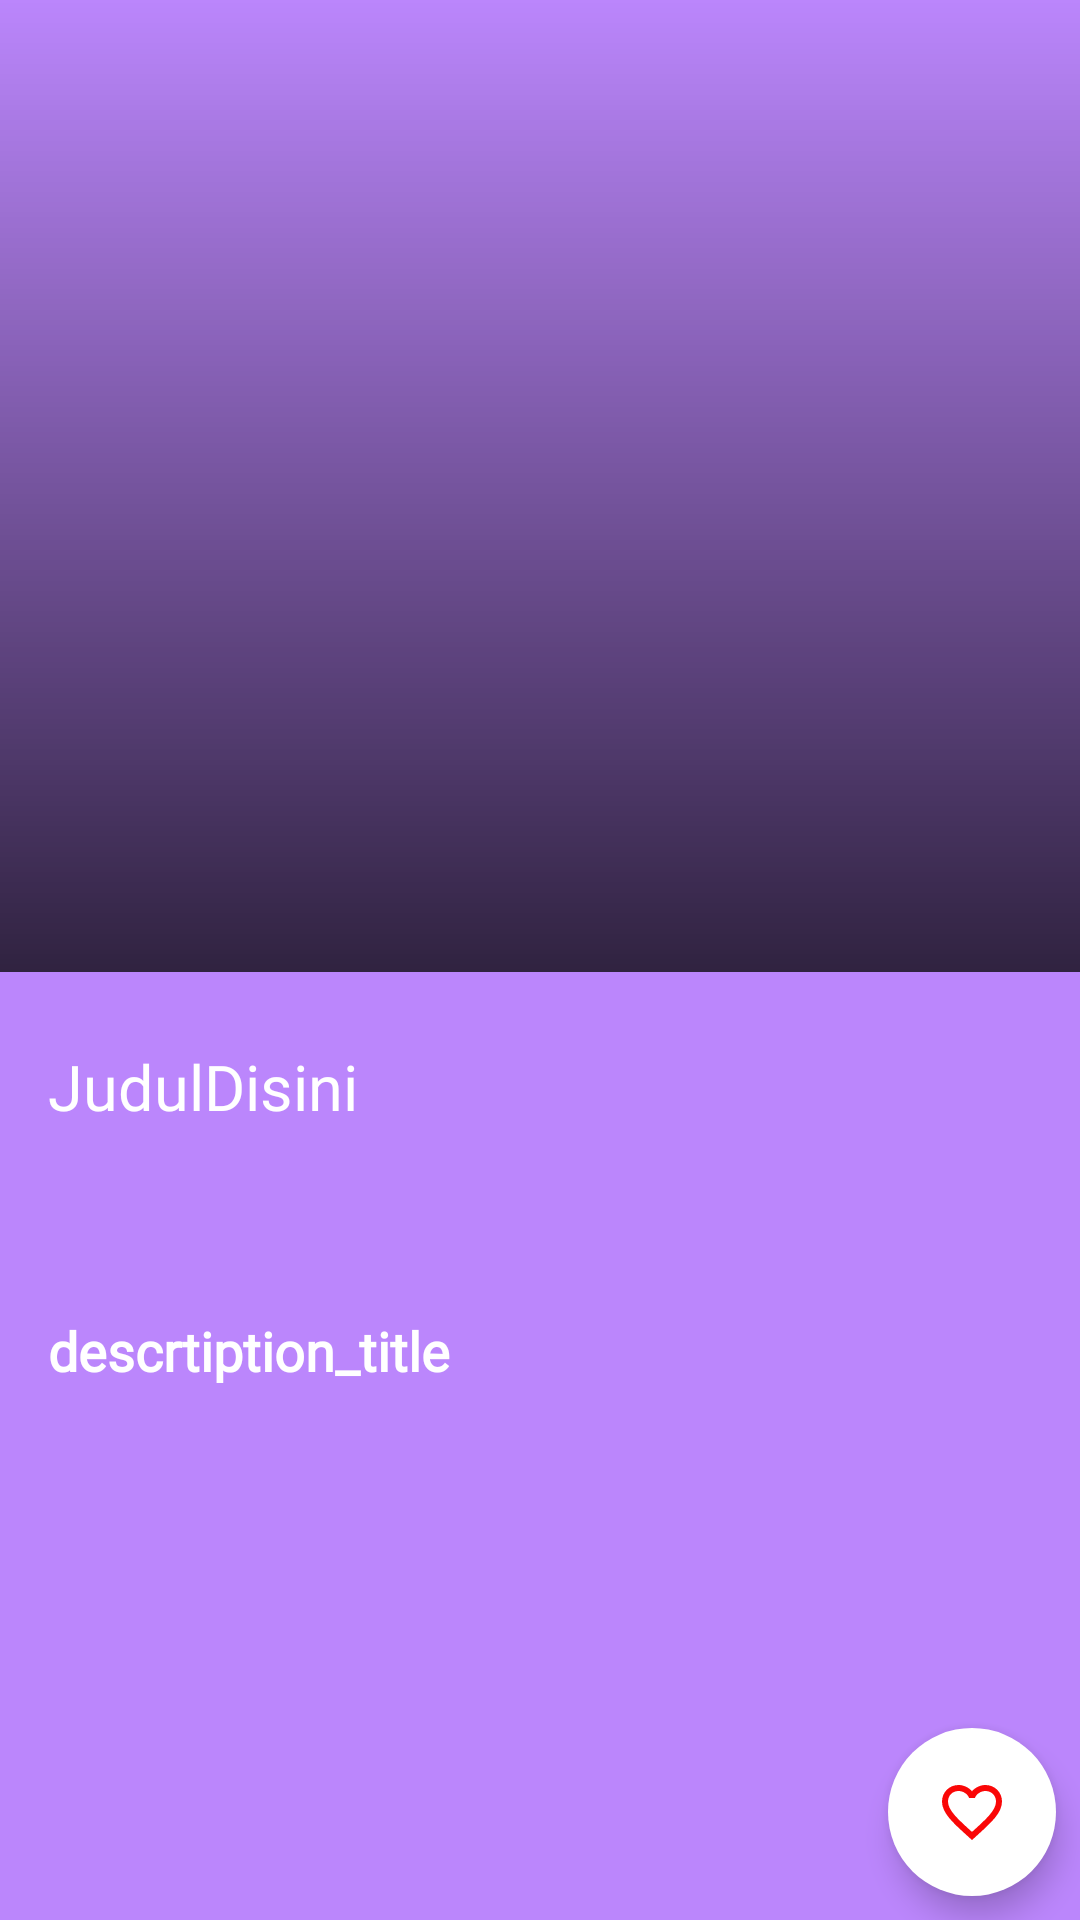

Icons on this 1080 x 1920 Android screen, each with its box as region(x1, y1, x2, y2):
favorite border: region(888, 1728, 1056, 1896)
